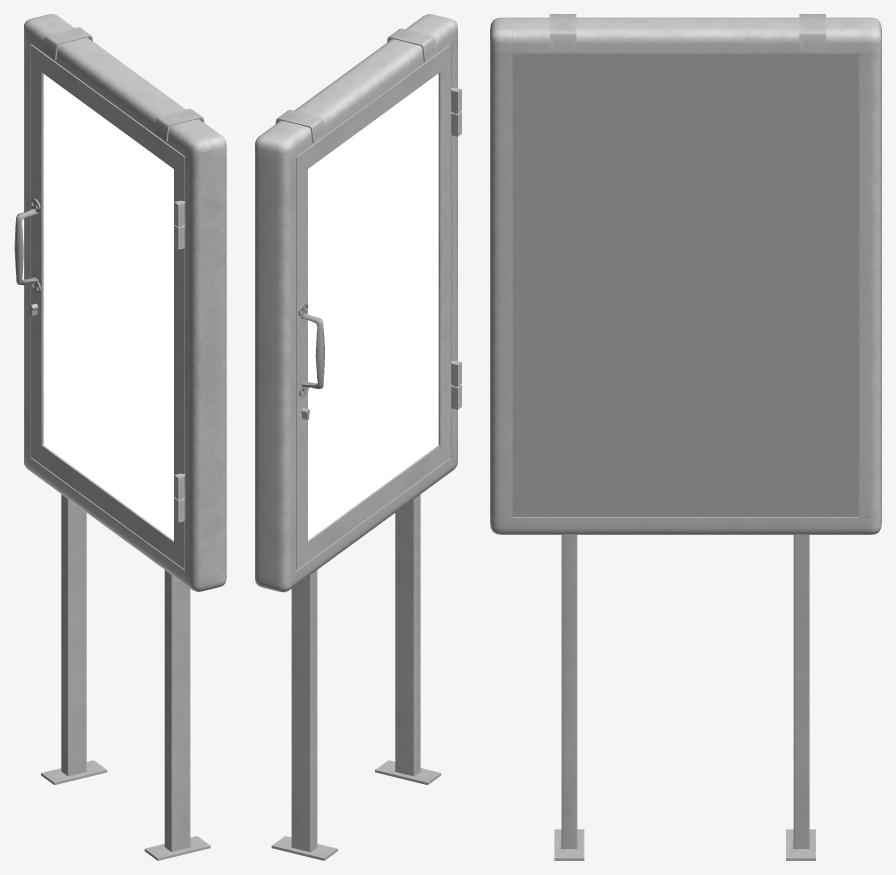
File: SM_Info_Panel_01b.fbx
The picture shows the model from 3 angles, left to right: view 1: azimuth 30°, elevation 25°; view 2: azimuth 150°, elevation 25°; view 3: azimuth 270°, elevation 25°; orthographic projection. The views are drawn at different scales.
Parts seen in each view (by area): view 1: SM_Info_Panel_01b; view 2: SM_Info_Panel_01b; view 3: SM_Info_Panel_01b.
Part boxes in pixels (x1,y1,x2,y2): SM_Info_Panel_01b: (14,14,226,860); SM_Info_Panel_01b: (255,14,461,860); SM_Info_Panel_01b: (490,14,881,860).
Size of the model in its own units: 16.95 by 78.43 by 182.
Materials: 3 (2 with a texture image).
